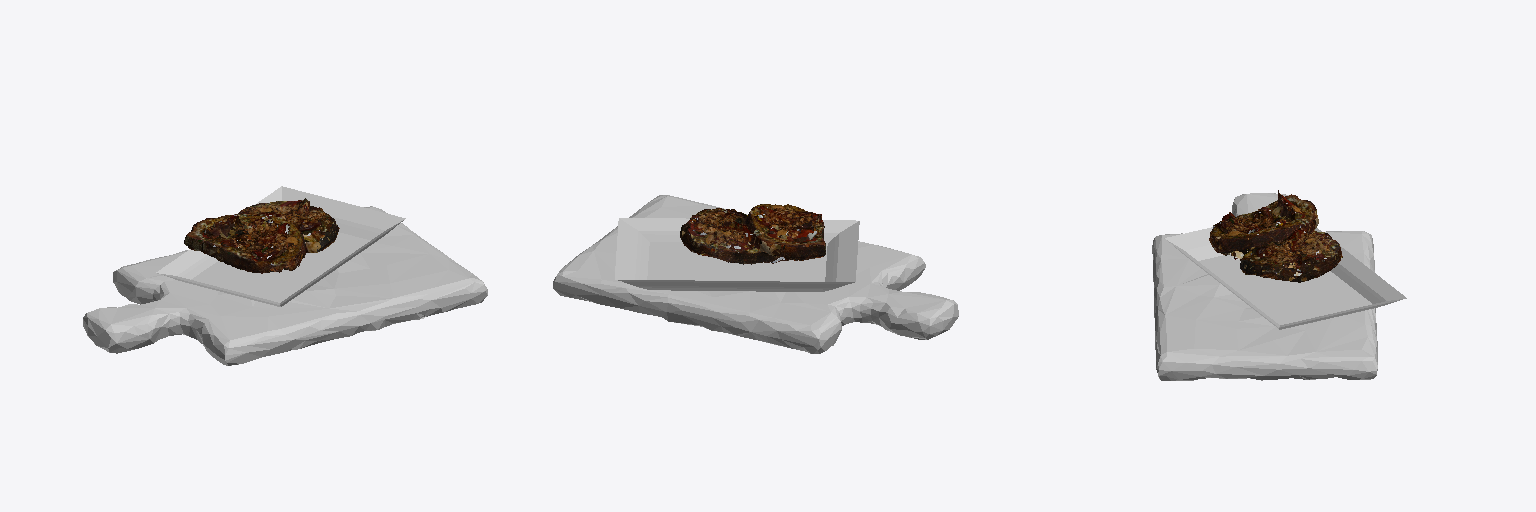
3 renders of one model, left to right at view 1: azimuth 30°, elevation 25°; view 2: azimuth 150°, elevation 25°; view 3: azimuth 270°, elevation 25°, orthographic.
Visible parts, largest first — view 1: Group_Global.001, Circle, Group_Global; view 2: Group_Global.001, Circle, Group_Global; view 3: Group_Global.001, Circle, Group_Global.
Boxes of the visible parts, x1=… form: Group_Global.001: x1=83, y1=206, x2=487, y2=365; Circle: x1=156, y1=186, x2=405, y2=306; Group_Global: x1=184, y1=198, x2=339, y2=273; Group_Global.001: x1=553, y1=195, x2=958, y2=353; Circle: x1=615, y1=218, x2=859, y2=291; Group_Global: x1=680, y1=204, x2=825, y2=264; Group_Global.001: x1=1152, y1=193, x2=1377, y2=380; Circle: x1=1164, y1=227, x2=1406, y2=329; Group_Global: x1=1209, y1=190, x2=1342, y2=282.
Size of the model in its own units: 0.9949 by 0.2489 by 0.6393.
Materials: 3 (1 with a texture image).